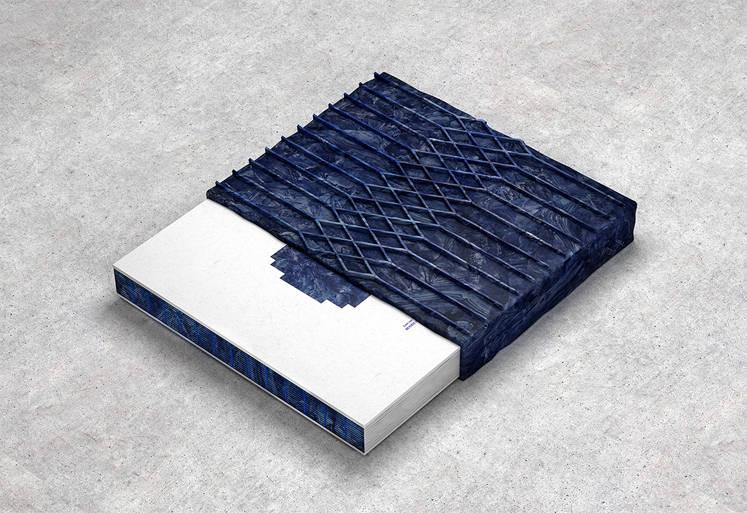book: (86, 60, 667, 467)
